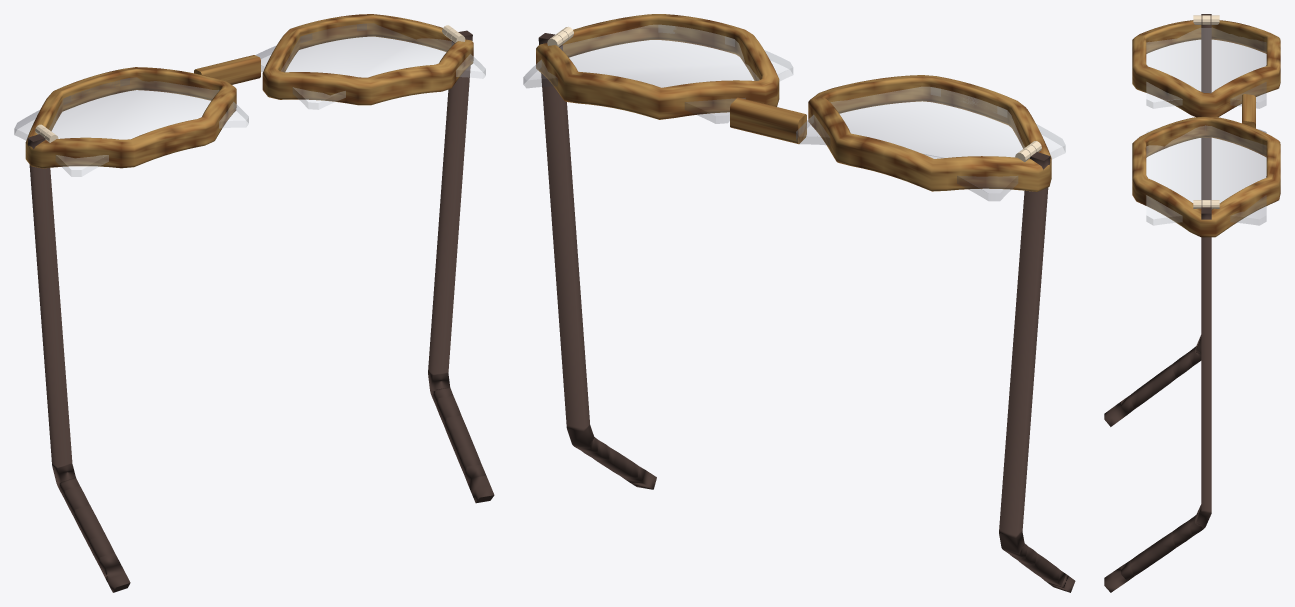
The model's file is panto-tortoise.glb.
3 renders of one model, left to right at view 1: azimuth 30°, elevation 25°; view 2: azimuth 150°, elevation 25°; view 3: azimuth 270°, elevation 25°, orthographic. The views are drawn at different scales.
Visible parts, largest first — view 1: MEL_eyewear_Frame, MEL_eyewear_TempleR, MEL_eyewear_TempleL, MEL_eyewear_LensL, MEL_eyewear_LensR; view 2: MEL_eyewear_Frame, MEL_eyewear_LensL, MEL_eyewear_TempleL, MEL_eyewear_LensR, MEL_eyewear_TempleR; view 3: MEL_eyewear_Frame, MEL_eyewear_LensR, MEL_eyewear_LensL, MEL_eyewear_TempleL, MEL_eyewear_TempleR.
Boxes of the visible parts, box(x1,y1,x2,y2) form: MEL_eyewear_Frame: box(25, 14, 473, 168); MEL_eyewear_TempleR: box(27, 134, 130, 592); MEL_eyewear_TempleL: box(428, 30, 494, 503); MEL_eyewear_LensL: box(14, 77, 248, 176); MEL_eyewear_LensR: box(255, 23, 485, 109); MEL_eyewear_Frame: box(536, 14, 1051, 191); MEL_eyewear_LensL: box(796, 87, 1065, 200); MEL_eyewear_TempleL: box(538, 33, 656, 489); MEL_eyewear_LensR: box(523, 24, 793, 123); MEL_eyewear_TempleR: box(999, 152, 1075, 592); MEL_eyewear_Frame: box(1132, 15, 1280, 237); MEL_eyewear_LensR: box(1146, 125, 1266, 225); MEL_eyewear_LensL: box(1146, 27, 1266, 108); MEL_eyewear_TempleL: box(1104, 206, 1211, 592); MEL_eyewear_TempleR: box(1104, 14, 1211, 426).
Size of the model in its own units: 0.1339 by 0.1268 by 0.0499.
